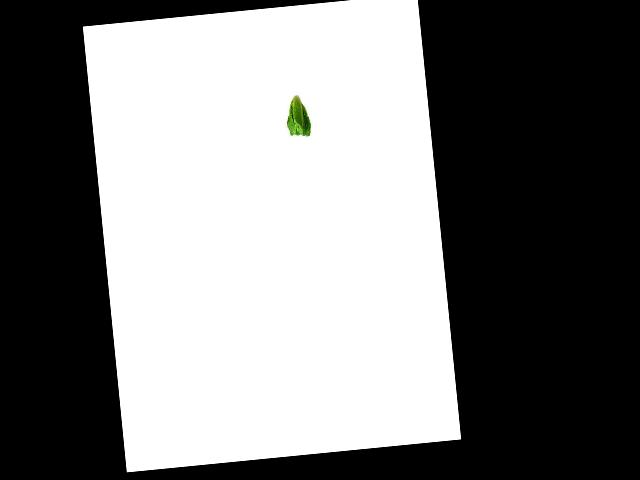lettuce: (280, 92, 315, 140)
